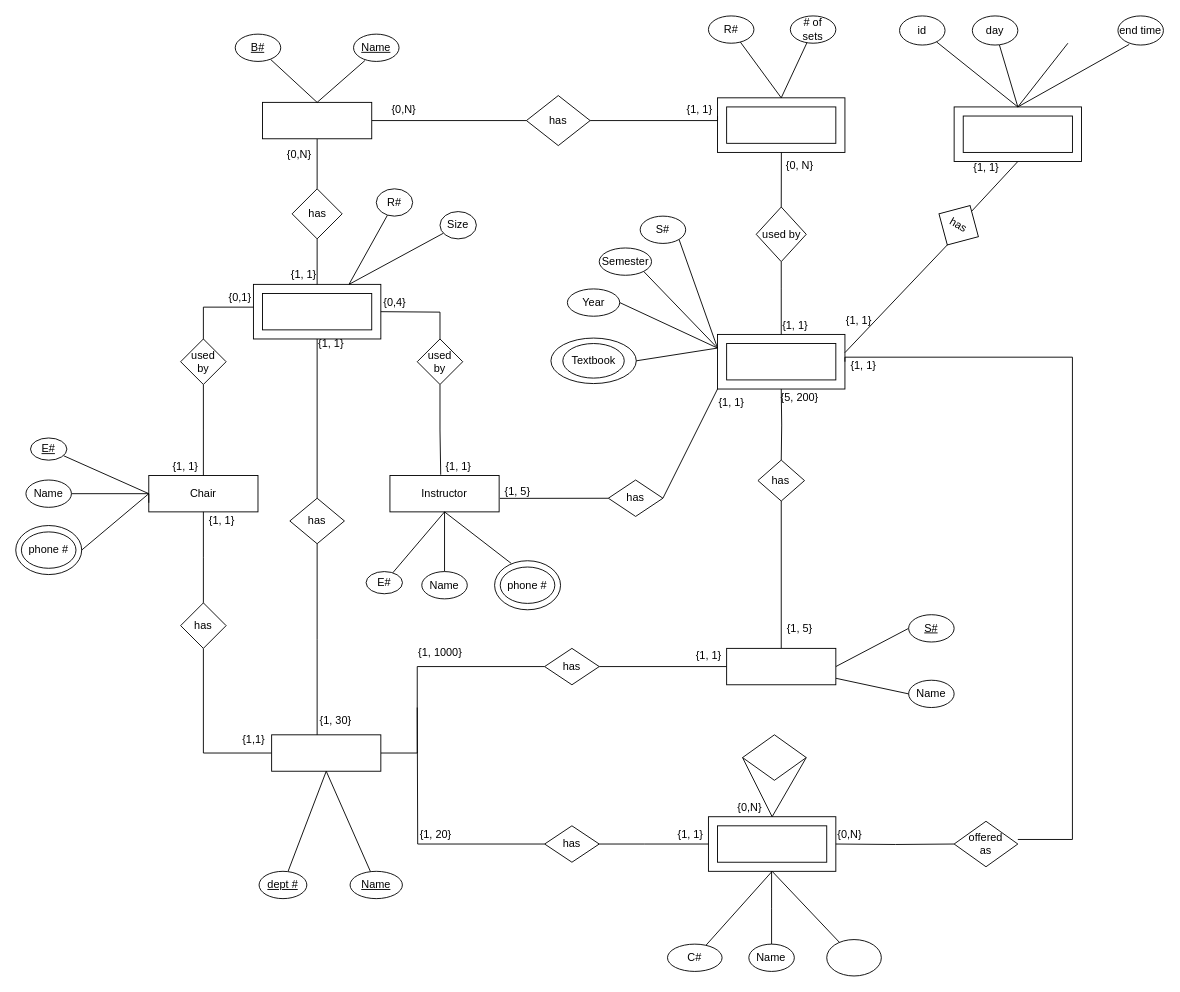
This 1180x992 diagram has some shape labels left out. The shapes that lost their labels are listed below. From the top down, each one's centre as x and y in pixels, then its label:
(317,120): Building
(781,124): Classroom
(1017,133): Timeslot
(317,311): Office
(781,361): Section
(781,666): Student
(326,752): Department
(774,757): prereqs
(772,843): Course
(853,957): Credit Hours
